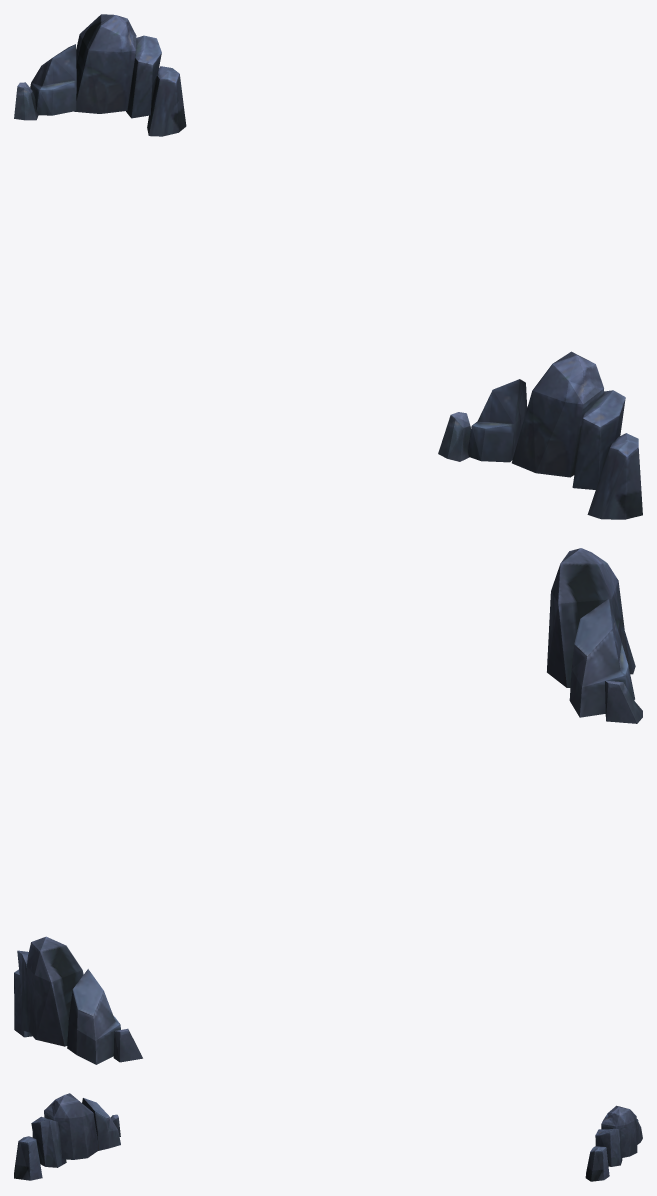
File: Area14_8.fbx
3 views of the same model, one above another, from view 1: azimuth 30°, elevation 25°; view 2: azimuth 150°, elevation 25°; view 3: azimuth 270°, elevation 25° (orthographic). The views are drawn at different scales.
Parts seen in each view (by area): view 1: Area14_8; view 2: Area14_8; view 3: Area14_8.
Boxes of the visible parts, box(x1,y1,x2,y2) form: Area14_8: box(14, 14, 642, 519); Area14_8: box(14, 548, 642, 1064); Area14_8: box(14, 1093, 642, 1181).
Bounding box in the file's own units: 1335 × 1072 × 7900.
